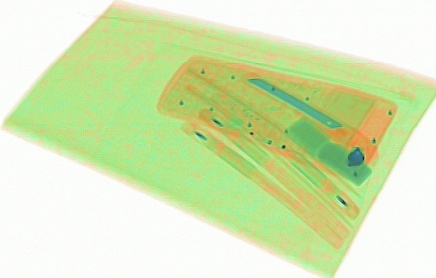knife: (244, 73, 362, 140)
